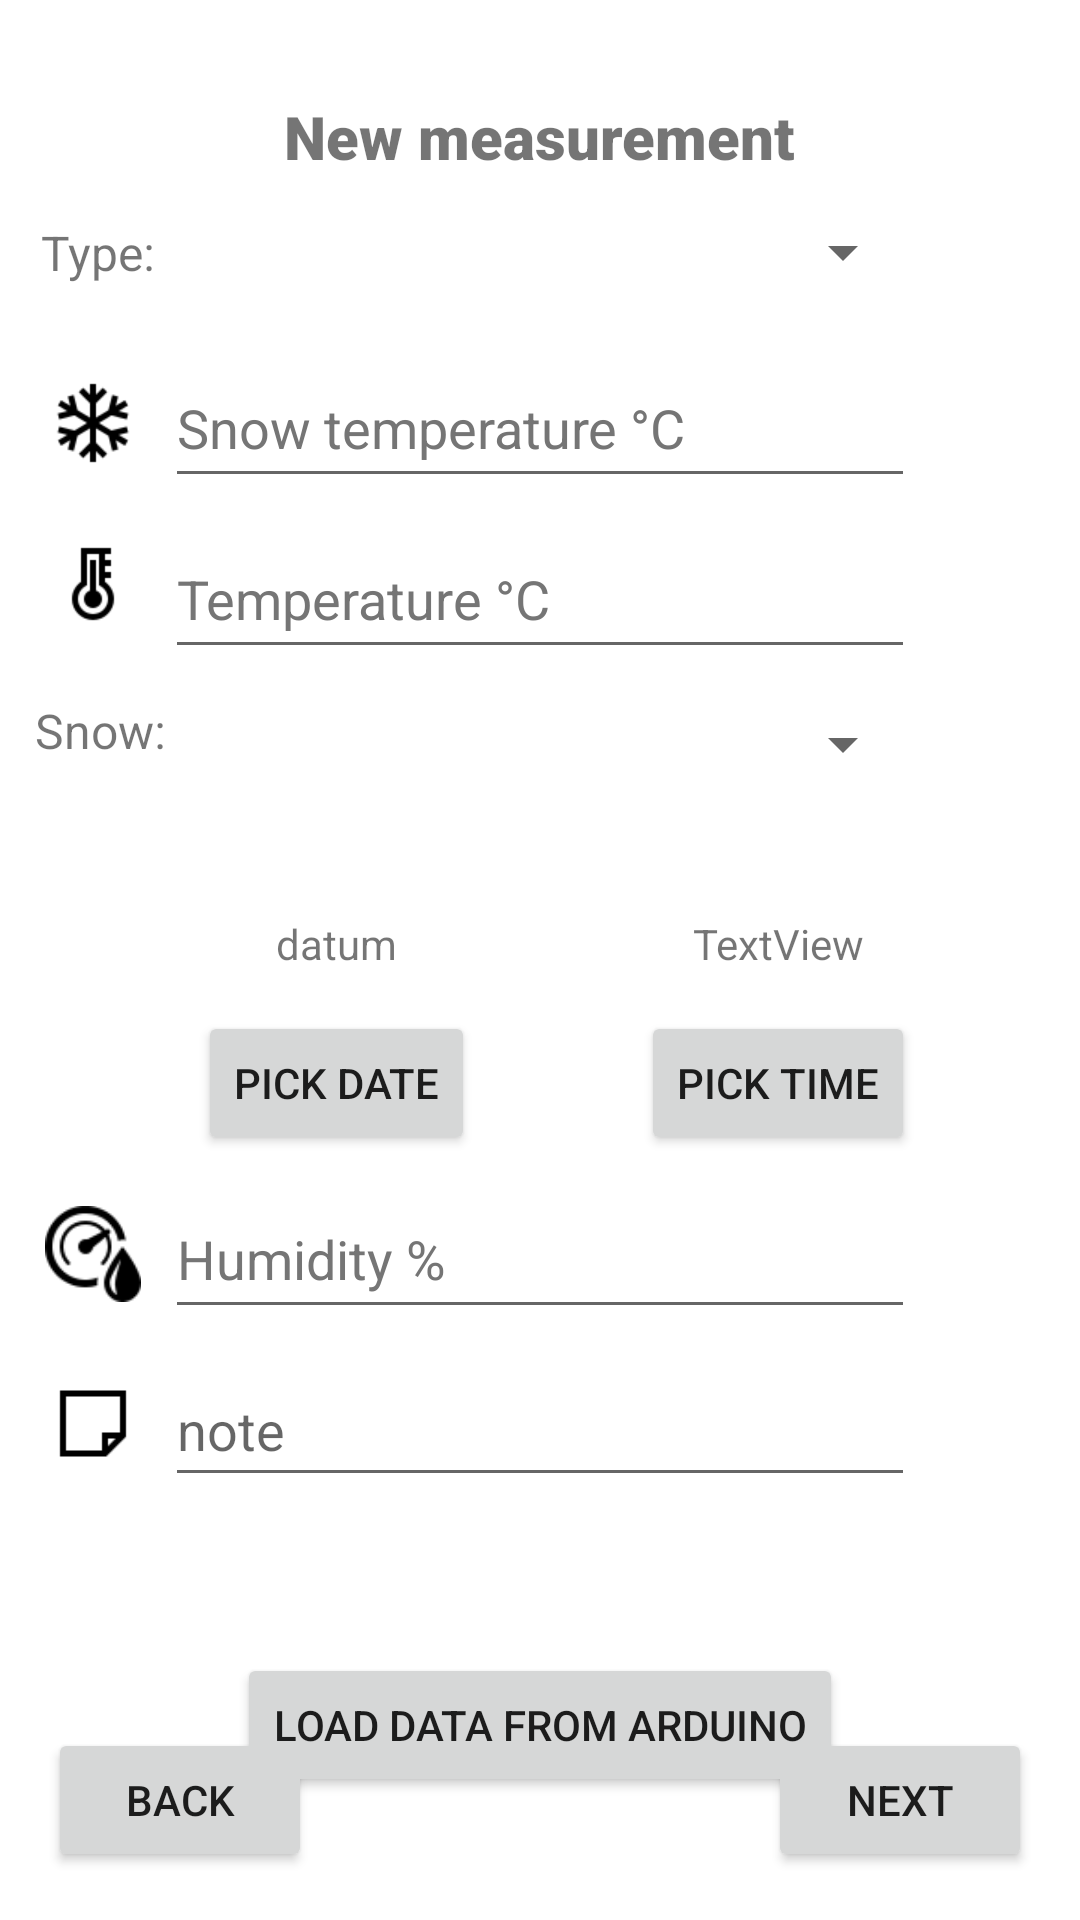

Where icons sit on this 1080px x 1920px app screen, as rect(x1, y1, x2, y2):
snowflake: rect(57, 383, 129, 463)
